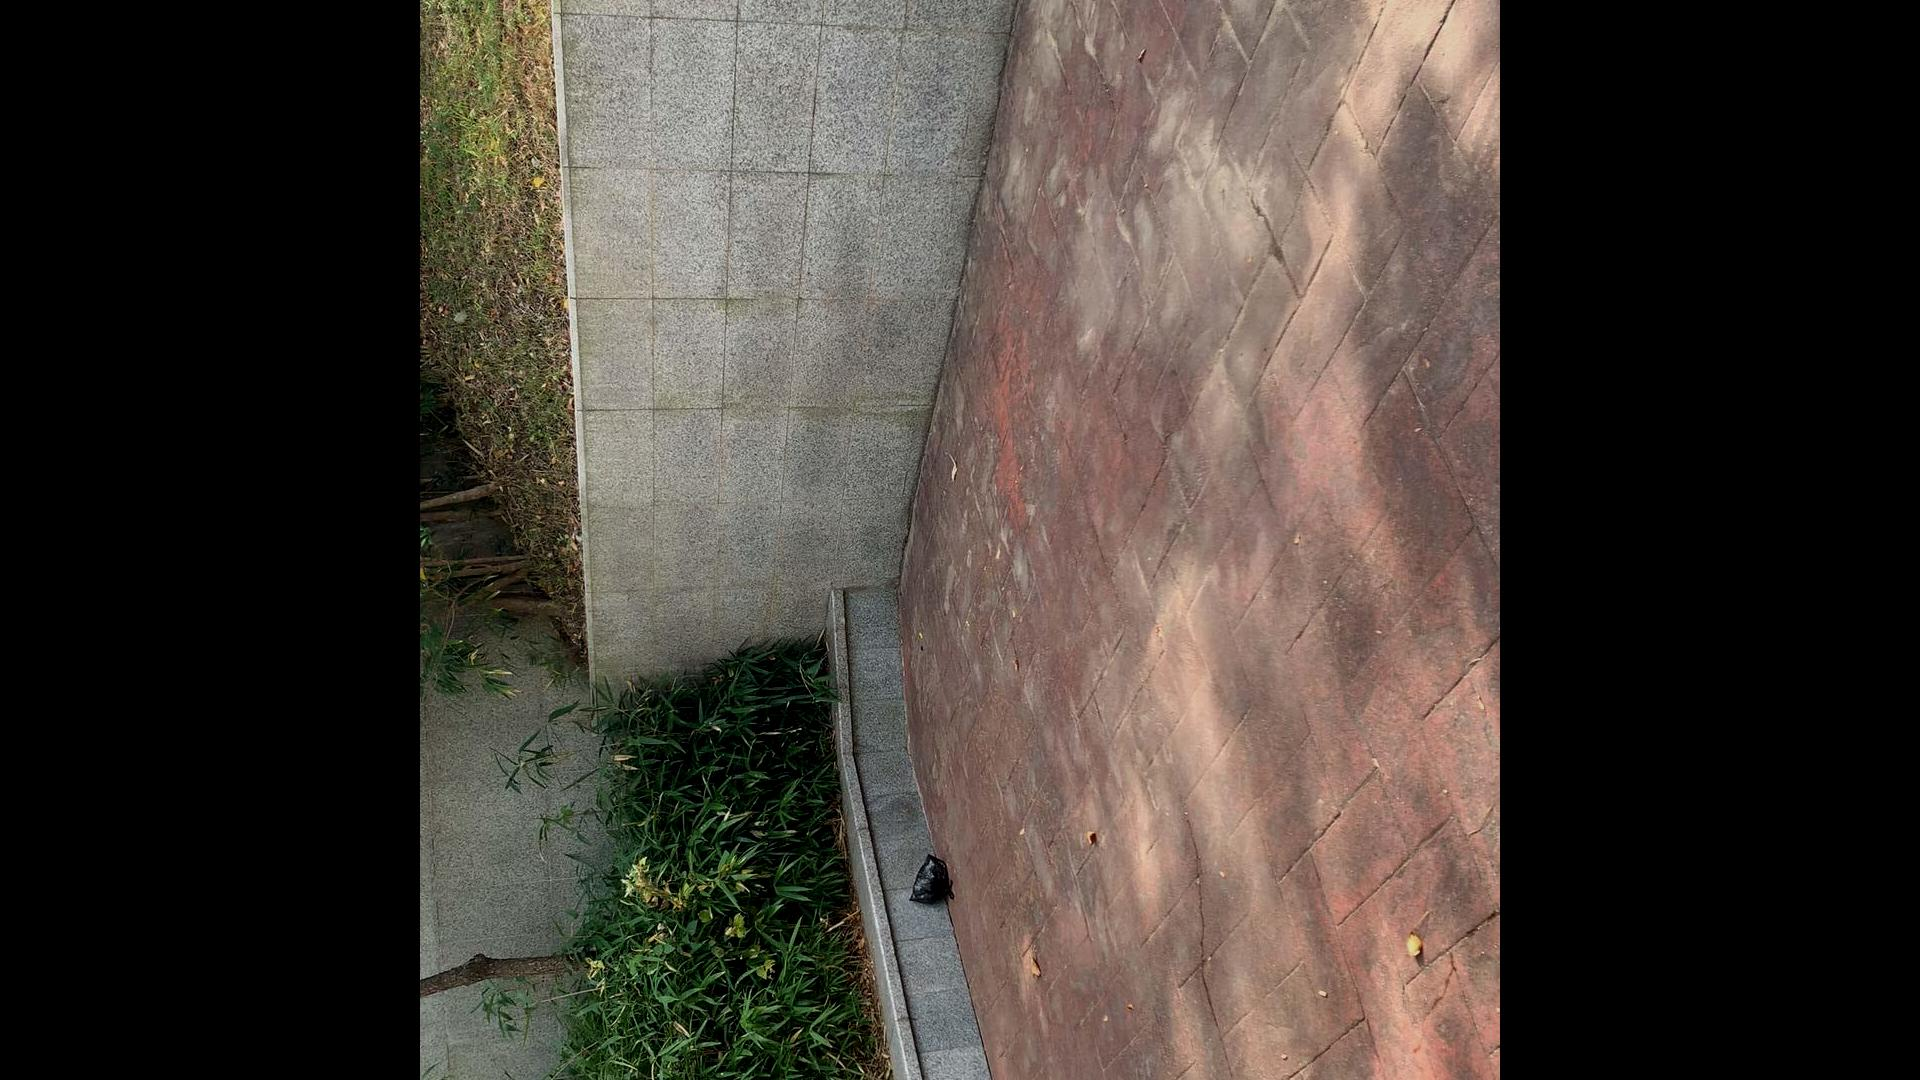black_bag: (905, 849, 959, 909)
